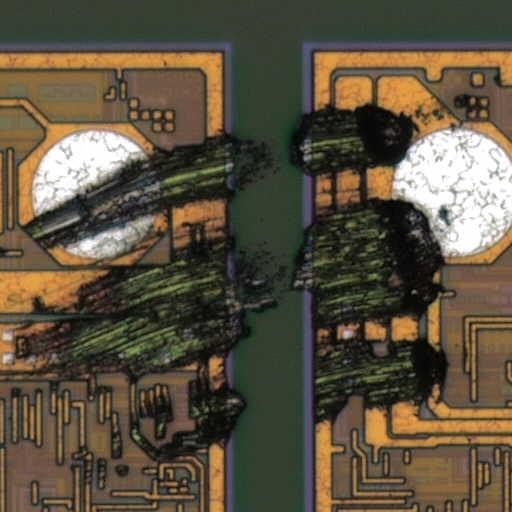SCRATCH: (15, 104, 451, 468)
